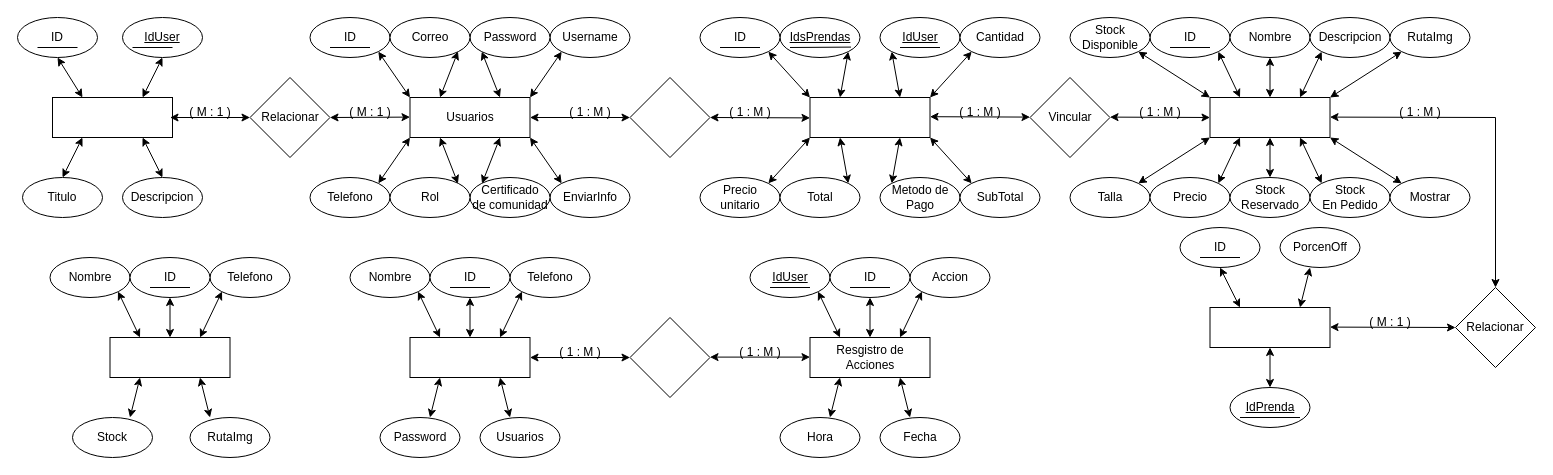
Some shapes in this 1553 by 475 pixel diagram are drawn without their labels. The shapes that lost their labels are listed below. From the top down, each one's box as (x1, y1, x2, y2) in pixels, then its label:
(52, 96, 172, 138): Comunidad
(629, 76, 710, 158): Asociar
(809, 96, 930, 138): Pedidos
(1209, 96, 1330, 138): Stock Inv
(1209, 306, 1330, 348): Ofertas
(109, 336, 230, 378): StockMat
(409, 336, 530, 378): UsuariosInv
(629, 316, 710, 398): Registrar
